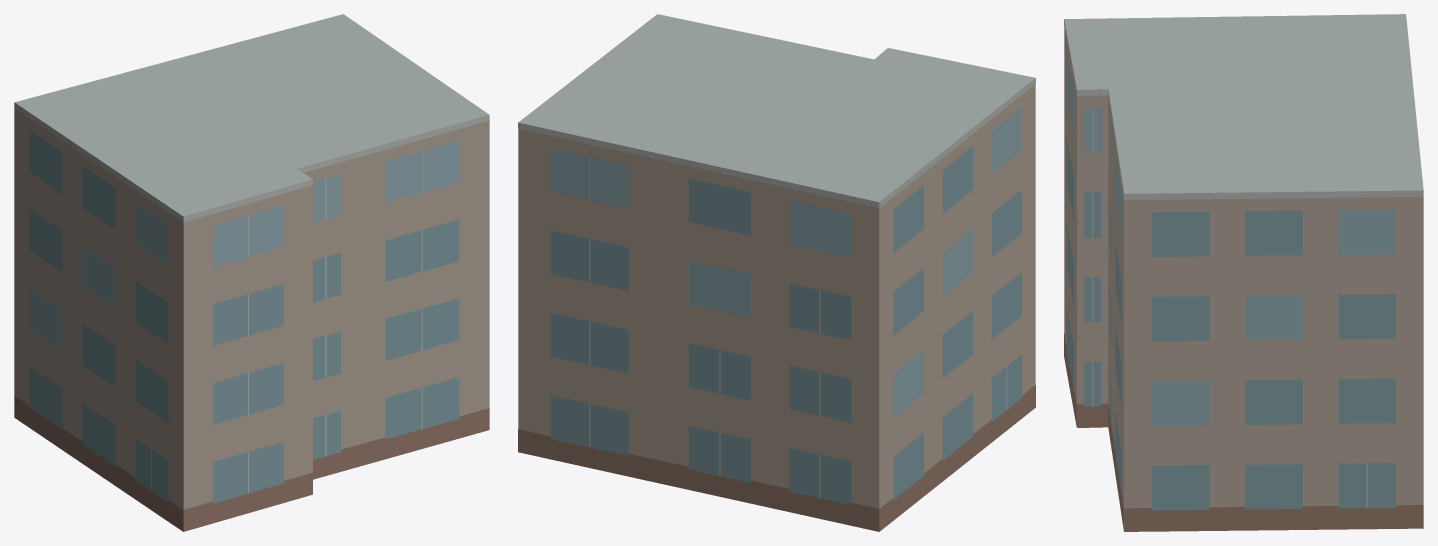
The model's file is survey-upis-32858993.glb.
3 views of the same model, side by side, from view 1: azimuth 30°, elevation 25°; view 2: azimuth 150°, elevation 25°; view 3: azimuth 270°, elevation 25° (orthographic). The views are drawn at different scales.
Parts seen in each view (by area): view 1: survey-upis-32858993.tmp; view 2: survey-upis-32858993.tmp; view 3: survey-upis-32858993.tmp.
Boxes of the visible parts, x1,y1,x2,y2 form: survey-upis-32858993.tmp: (14, 14, 489, 531); survey-upis-32858993.tmp: (518, 14, 1035, 531); survey-upis-32858993.tmp: (1064, 14, 1423, 531).
Bounding box in the file's own units: 14.9 × 13.05 × 12.59.
